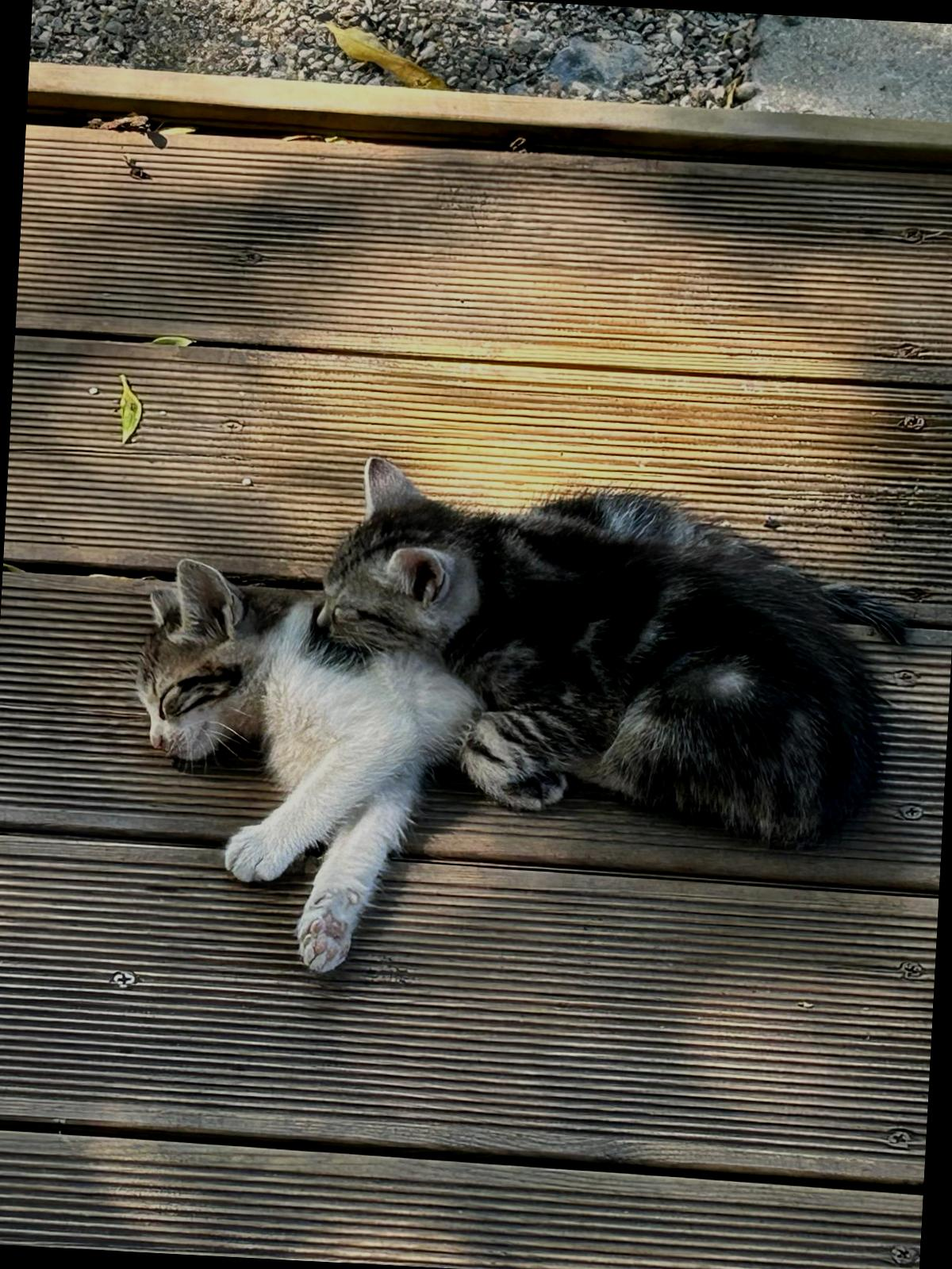macka: (303, 452, 919, 857), (119, 552, 484, 983)
